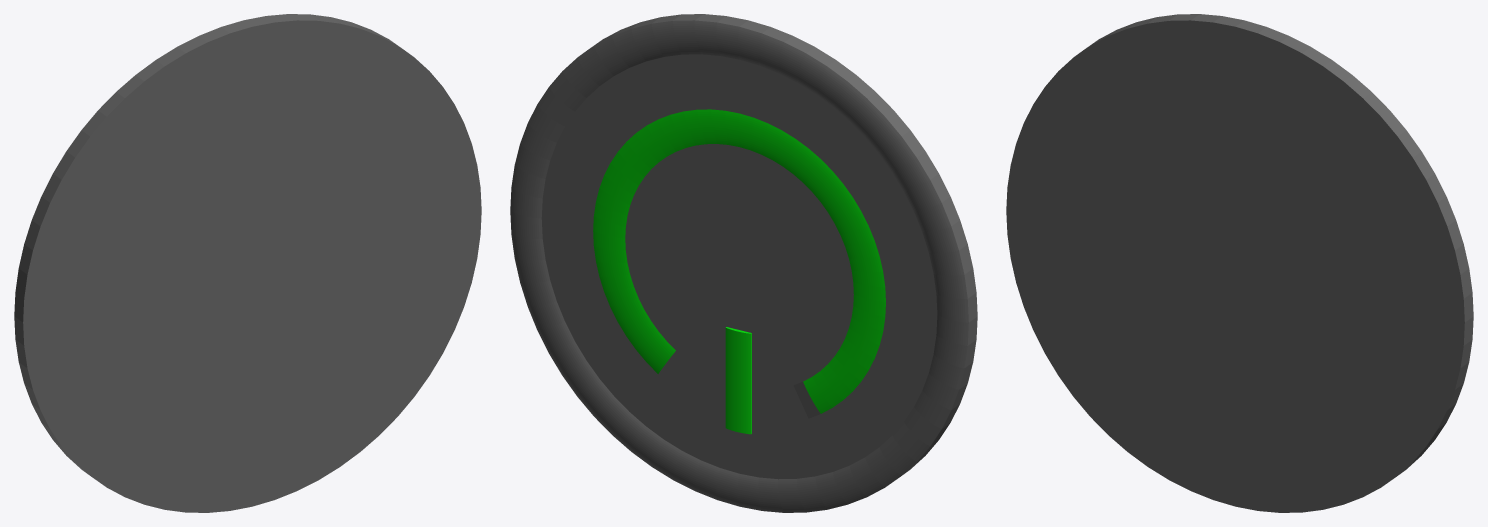
The model's file is Switch.fbx.
3 renders of one model, left to right at view 1: azimuth 30°, elevation 25°; view 2: azimuth 150°, elevation 25°; view 3: azimuth 330°, elevation 25°, orthographic.
Parts seen in each view (by area): view 1: Cylinder.004; view 2: Cylinder.004; view 3: Cylinder.004.
Boxes of the visible parts, box(x1,y1,x2,y2) form: Cylinder.004: box(14, 14, 481, 512); Cylinder.004: box(510, 14, 977, 512); Cylinder.004: box(1006, 14, 1473, 512).
Size of the model in its own units: 0.33 by 0.33 by 0.0134.
